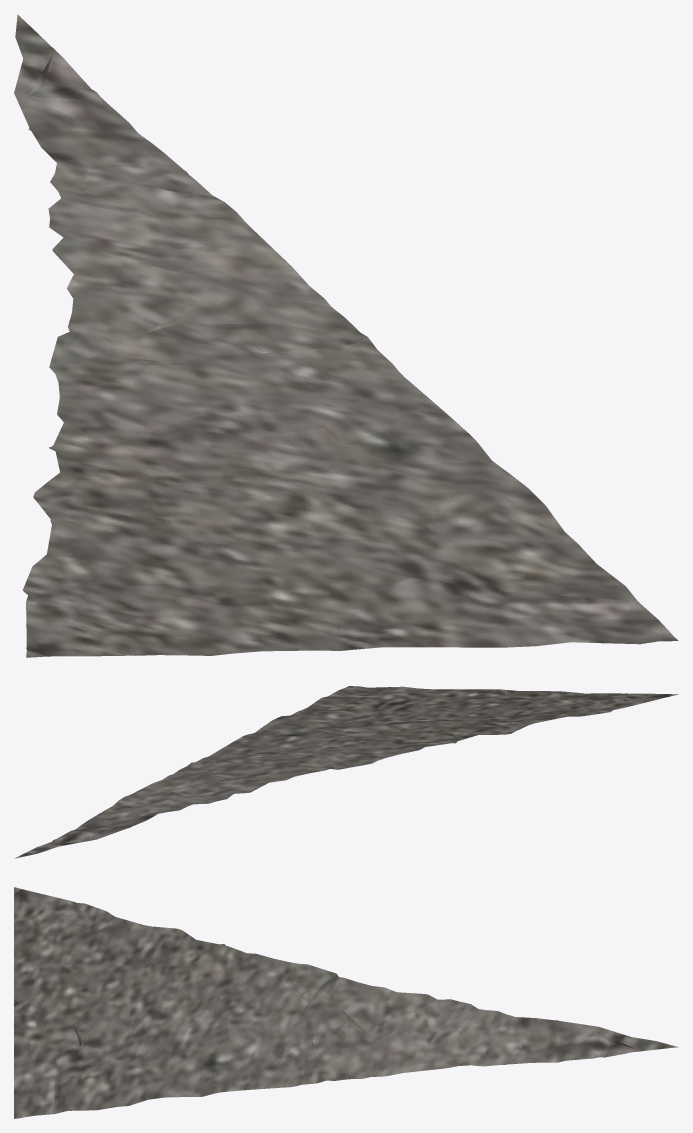
The picture shows the model from 3 angles, top to bottom: view 1: azimuth 30°, elevation 25°; view 2: azimuth 150°, elevation 25°; view 3: azimuth 270°, elevation 25°; orthographic projection. The views are drawn at different scales.
Size of the model in its own units: 0.4471 by 0.0934 by 0.7845.
Materials: 1 (1 with a texture image).
